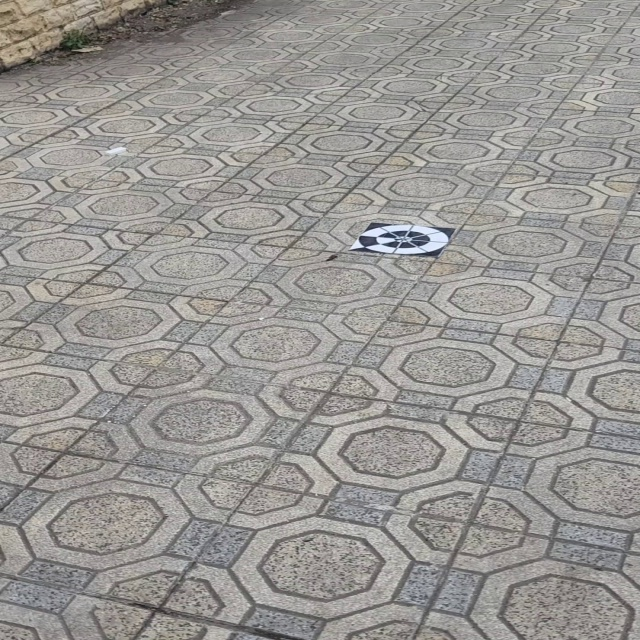landing-zone: (346, 216, 455, 260)
